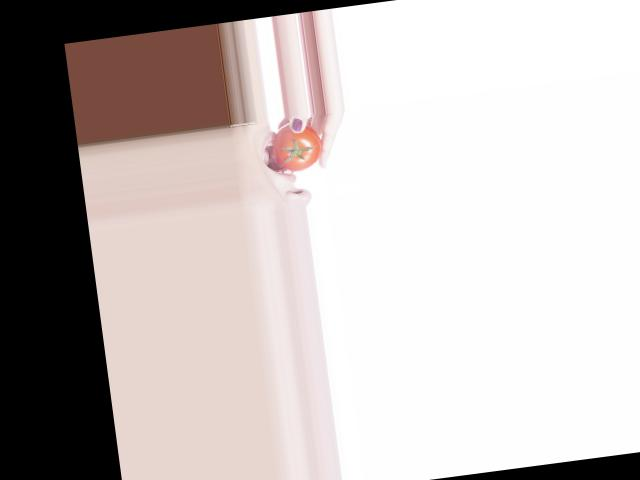tomato: (270, 118, 325, 173)
